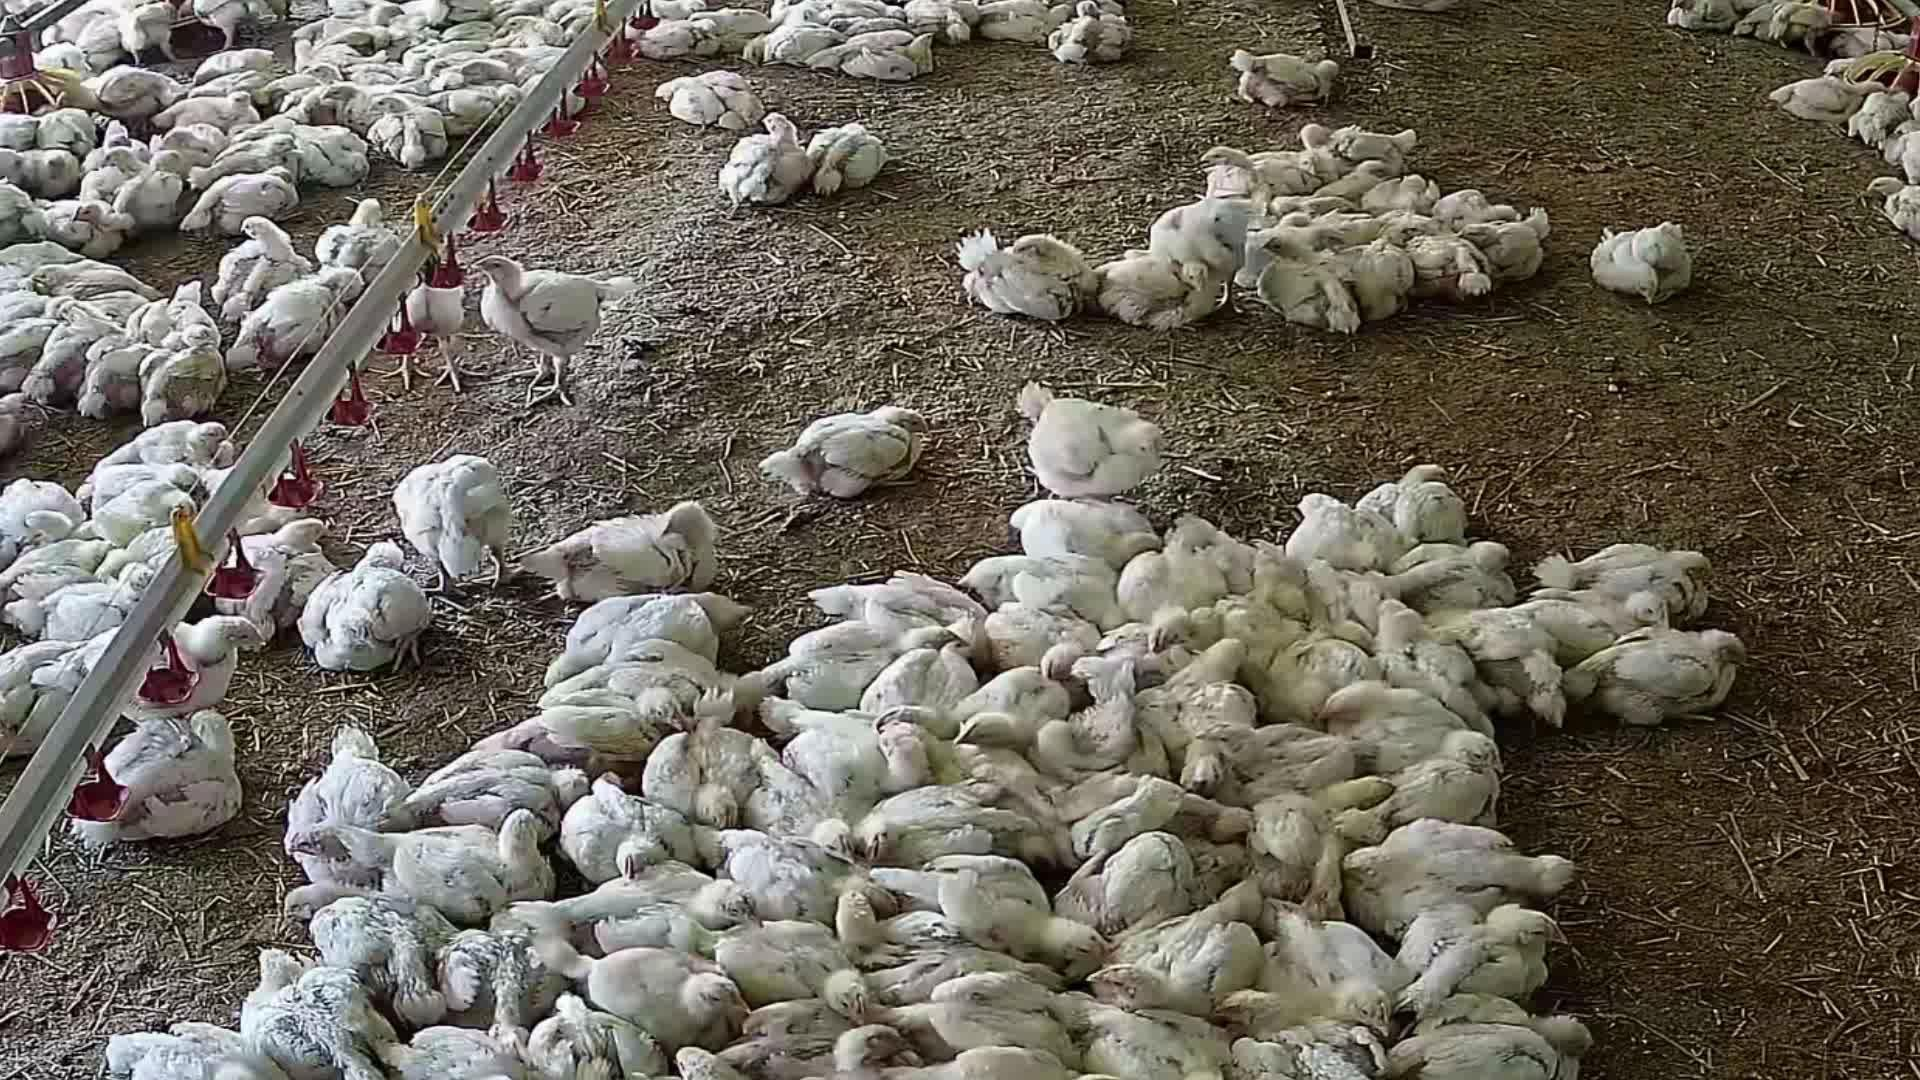poussin: (281, 887, 479, 1025), (44, 612, 270, 724), (481, 255, 637, 409), (73, 708, 243, 844), (935, 839, 1102, 971), (533, 484, 721, 600), (344, 812, 555, 914), (1007, 382, 1182, 501), (1102, 893, 1270, 1014), (1340, 823, 1552, 918), (684, 911, 886, 1010), (381, 455, 537, 583), (302, 535, 439, 679), (289, 727, 406, 894), (1055, 816, 1215, 939), (525, 872, 757, 948), (1382, 993, 1593, 1075), (749, 625, 938, 716), (1261, 899, 1408, 1015), (1571, 628, 1749, 723), (249, 947, 376, 1080), (650, 700, 777, 832), (476, 692, 688, 770), (563, 943, 748, 1031), (781, 394, 939, 497), (1055, 988, 1230, 1080), (960, 711, 1176, 783), (1382, 601, 1506, 727), (866, 984, 1091, 1052), (1233, 607, 1375, 713), (549, 592, 769, 661), (849, 787, 1043, 864), (728, 827, 901, 913), (789, 705, 945, 799), (1399, 911, 1576, 994), (1149, 629, 1250, 770), (235, 261, 368, 367), (1225, 996, 1391, 1079), (965, 550, 1134, 632), (538, 645, 753, 708), (1126, 521, 1234, 645), (856, 629, 982, 735), (417, 752, 604, 823), (1437, 608, 1557, 719), (822, 571, 1000, 644), (17, 550, 161, 638), (1383, 732, 1516, 827), (1060, 781, 1222, 858), (389, 243, 472, 394), (220, 521, 335, 630), (955, 228, 1091, 320), (0, 632, 94, 765), (1323, 673, 1470, 756), (1209, 713, 1369, 790), (735, 756, 860, 851), (535, 998, 678, 1080), (702, 992, 891, 1052), (880, 674, 1087, 725), (1013, 496, 1164, 564), (1261, 240, 1364, 340), (568, 790, 691, 873), (1138, 195, 1266, 273), (1532, 589, 1692, 651), (1101, 252, 1220, 332), (1364, 463, 1476, 547), (196, 458, 326, 530), (713, 115, 812, 208), (815, 895, 975, 952), (1395, 541, 1520, 612), (131, 323, 232, 410), (1549, 550, 1724, 600), (1589, 222, 1709, 294), (32, 307, 117, 406), (833, 951, 1027, 994), (204, 212, 306, 295), (384, 1030, 550, 1080), (319, 193, 405, 286), (1276, 492, 1394, 559), (996, 603, 1101, 676), (1069, 625, 1197, 686), (0, 530, 116, 596), (1224, 50, 1345, 112), (1400, 216, 1495, 295), (1236, 779, 1305, 886), (1230, 527, 1313, 615), (105, 414, 236, 469), (76, 345, 164, 425), (1465, 208, 1560, 281), (468, 926, 546, 1011), (98, 485, 204, 546), (1346, 553, 1447, 617), (1365, 222, 1432, 316), (822, 33, 940, 86), (108, 146, 182, 228), (1303, 115, 1419, 166), (29, 262, 170, 305), (286, 120, 368, 193), (654, 71, 762, 125), (808, 120, 887, 193), (492, 49, 580, 112), (1273, 162, 1394, 207), (3, 467, 80, 537), (1052, 0, 1139, 62), (32, 200, 135, 252), (372, 103, 455, 166), (1208, 144, 1315, 193), (3, 309, 73, 382), (422, 88, 525, 138), (76, 468, 211, 506), (183, 181, 298, 225), (872, 1056, 1091, 1079), (91, 69, 185, 115), (191, 135, 299, 174), (15, 150, 98, 196), (1865, 174, 1920, 240), (749, 24, 851, 59), (1312, 777, 1396, 819), (326, 84, 402, 131), (169, 86, 272, 120), (1779, 83, 1887, 115), (981, 0, 1069, 38), (498, 20, 574, 65), (666, 1043, 756, 1080), (200, 46, 280, 86), (301, 8, 406, 37), (636, 20, 715, 58), (909, 0, 977, 44), (691, 9, 777, 44), (1774, 5, 1841, 49), (290, 37, 382, 69), (121, 8, 183, 54), (1360, 175, 1453, 206), (1849, 90, 1909, 136), (404, 37, 495, 65), (38, 112, 111, 146), (202, 0, 255, 45), (1727, 8, 1783, 50), (1429, 193, 1510, 222), (1664, 0, 1731, 34), (1269, 211, 1345, 240), (0, 178, 33, 245), (3, 248, 90, 273), (196, 75, 276, 102), (307, 66, 407, 86), (305, 65, 369, 95), (1826, 32, 1905, 55), (1891, 120, 1920, 185), (78, 20, 115, 70), (0, 105, 36, 156), (87, 127, 141, 160), (819, 4, 915, 22), (632, 0, 709, 21), (278, 94, 323, 129), (829, 16, 910, 36), (0, 394, 25, 455), (386, 50, 430, 84), (404, 58, 448, 91), (455, 63, 525, 84), (161, 116, 207, 148), (1304, 195, 1374, 214), (426, 53, 506, 69), (37, 49, 91, 71), (778, 0, 820, 25), (444, 17, 495, 37), (556, 4, 593, 28), (491, 0, 550, 15), (1817, 61, 1866, 76)
